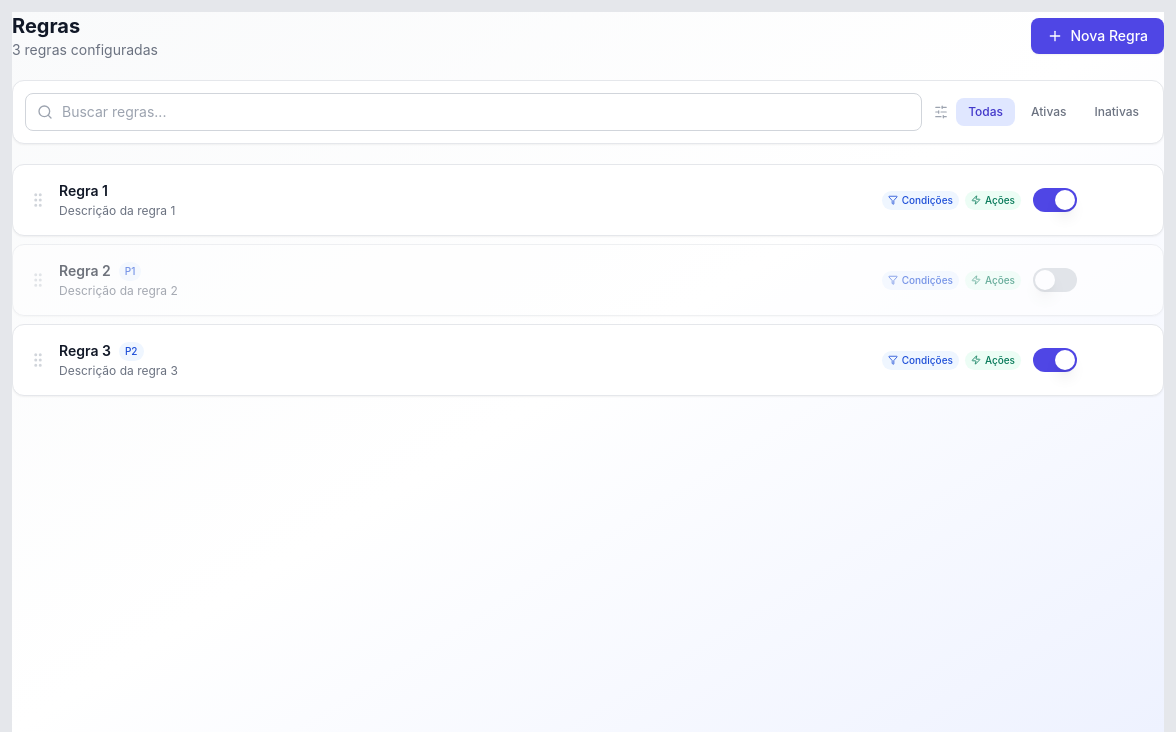
it: RuleListView › should filter by enabled status
Expected: the heading "Regra 1" is shown, [59,181,108,201]
Click the button "Ativas". click: (1049, 112)
box: [1019,98,1078,126]
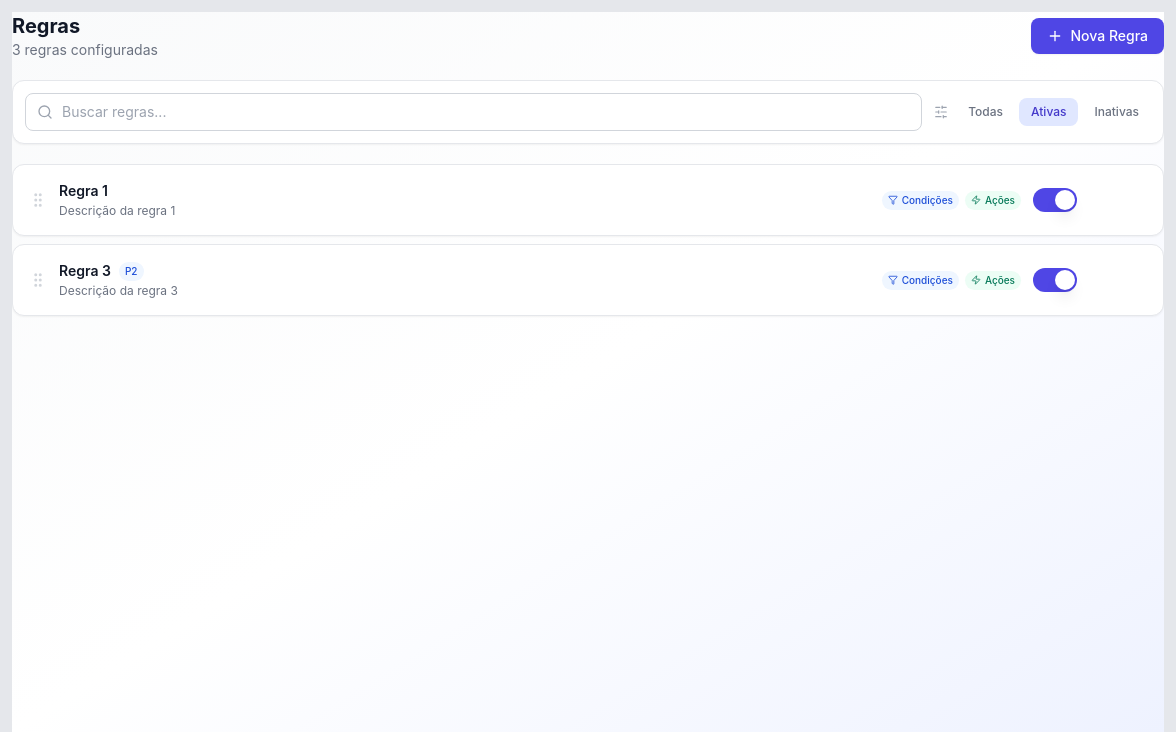
Expected: the heading "Regra 1" is shown, [59,181,108,201]
Now the button "Regra 2" is gone
